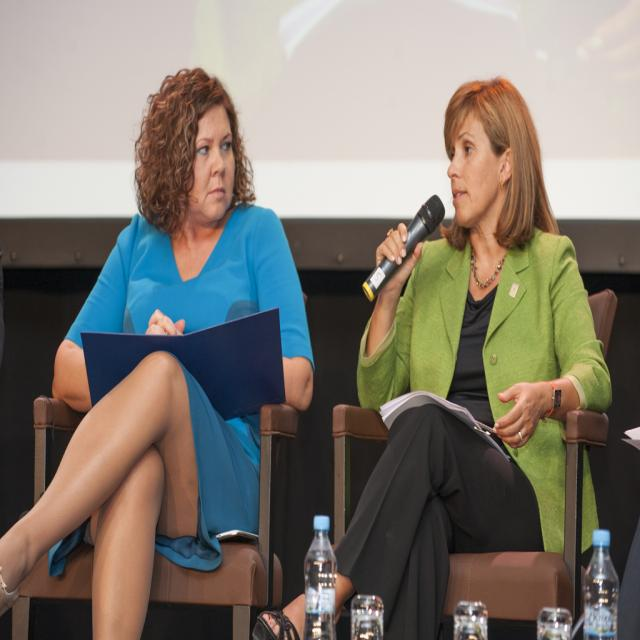Bottle: (304, 516, 338, 639), (584, 530, 619, 640)
